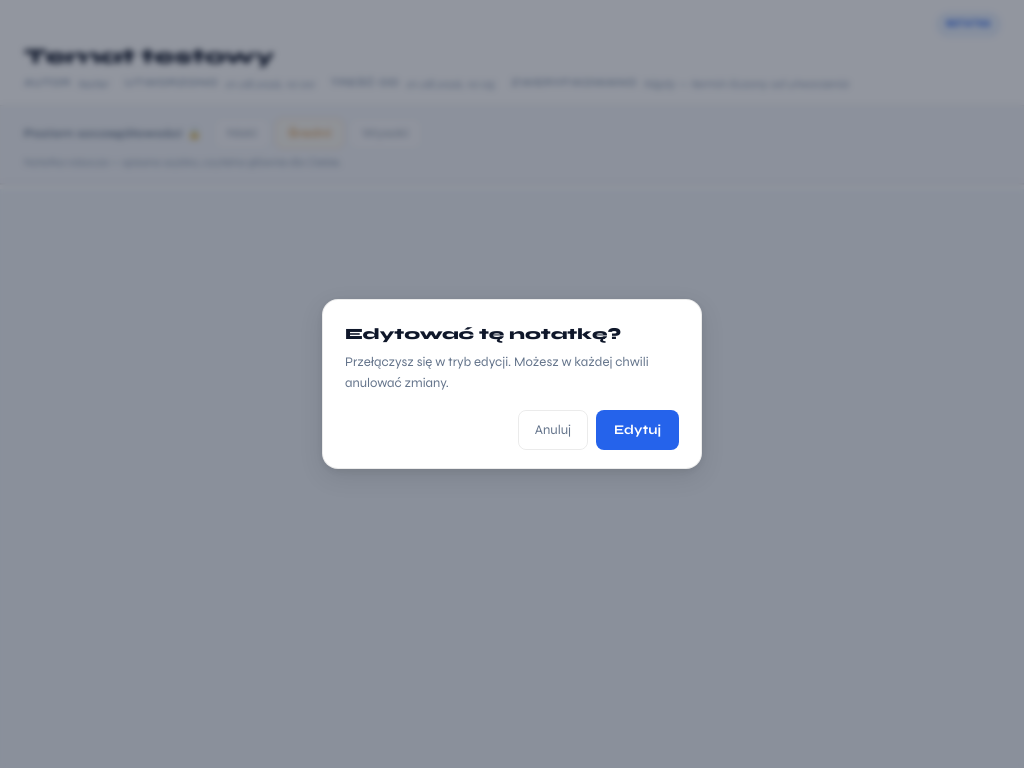
NotePanel — cache notatek › NOTE_SAVED innego klienta w trakcie EDYCJI nie nadpisuje niezapisanej treści w edytorze
The width and height of the screenshot is (1024, 768).
Earlier steps of the test are not shown.
What coordinates should you click on to do the following:
click the button with class "cfm-btn-confirm"
I would click on:
 (638, 430)
Its box is [596,410,679,450].
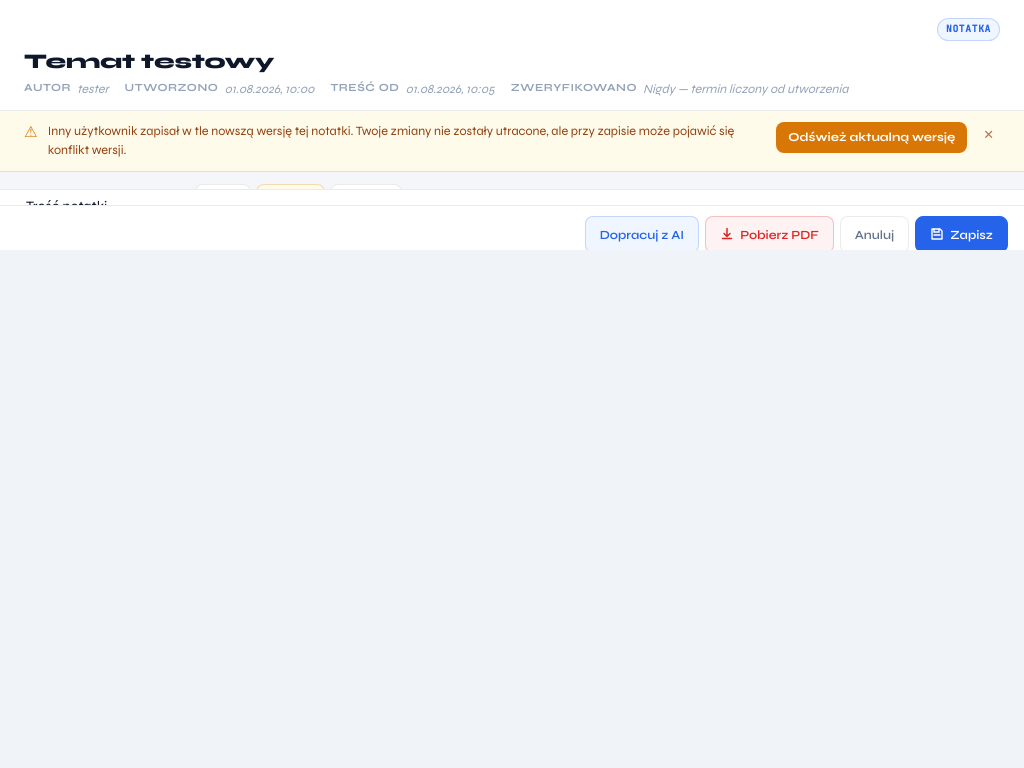
Expected: the button "Anuluj" is shown, [840,216,909,250]
Expected: the text "zapisał w tle nowszą wersję" is shown, [48,123,734,157]
